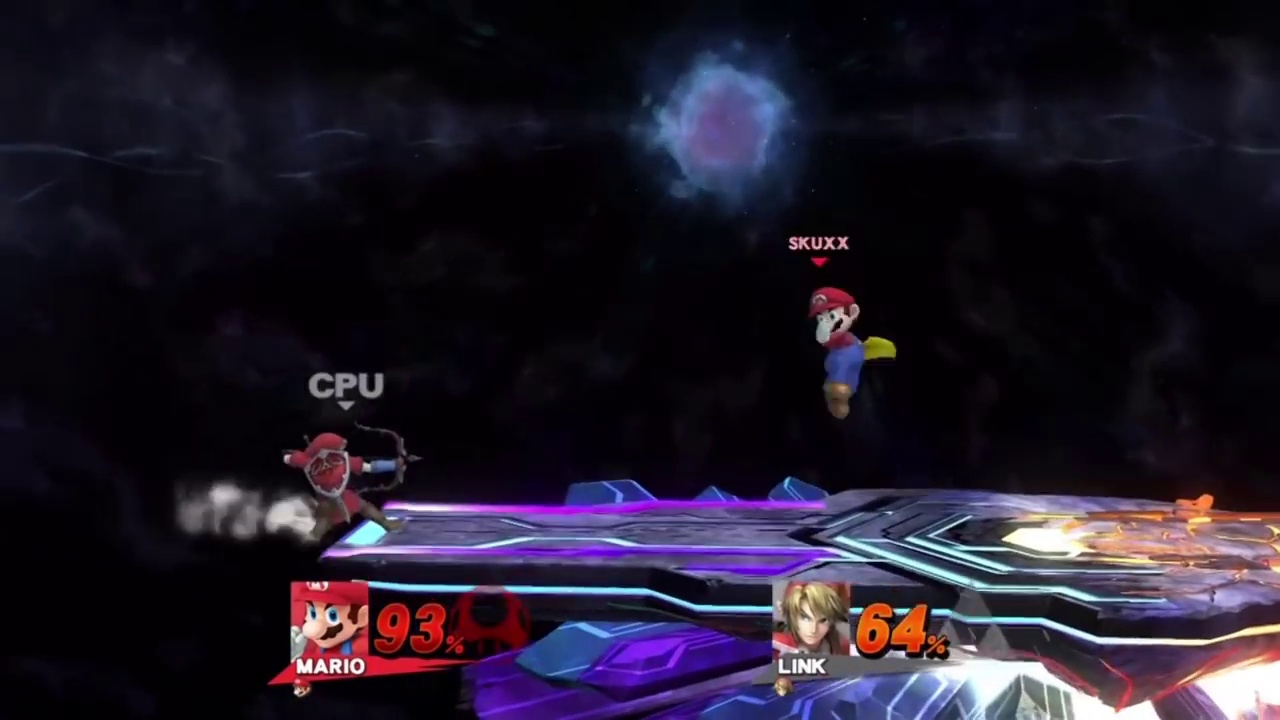Mario: (806, 288, 896, 424)
